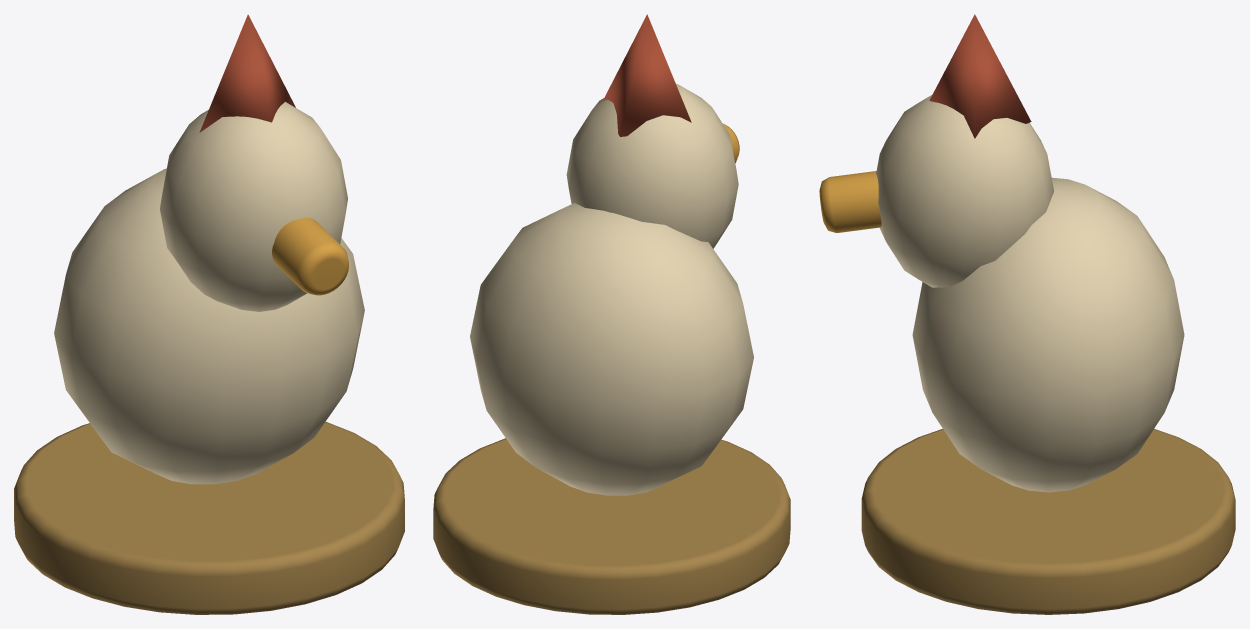
File: Token_Chicken.fbx
The picture shows the model from 3 angles, left to right: view 1: azimuth 30°, elevation 25°; view 2: azimuth 150°, elevation 25°; view 3: azimuth 270°, elevation 25°; orthographic projection. The views are drawn at different scales.
Parts seen in each view (by area): view 1: Chicken body.001, Chicken base.001, Chicken head.001, Chicken comb.001, Chicken beak.001; view 2: Chicken body.001, Chicken base.001, Chicken head.001, Chicken comb.001; view 3: Chicken body.001, Chicken base.001, Chicken head.001, Chicken comb.001, Chicken beak.001.
Boxes of the visible parts, x1,y1,x2,y2 form: Chicken body.001: (54, 168, 364, 484); Chicken base.001: (14, 421, 404, 614); Chicken head.001: (160, 101, 347, 311); Chicken comb.001: (199, 14, 295, 132); Chicken beak.001: (272, 217, 348, 295); Chicken body.001: (470, 203, 753, 495); Chicken base.001: (433, 438, 790, 614); Chicken head.001: (566, 84, 738, 248); Chicken comb.001: (603, 14, 691, 136); Chicken body.001: (912, 177, 1184, 492); Chicken base.001: (861, 429, 1235, 614); Chicken head.001: (876, 95, 1053, 287); Chicken comb.001: (929, 14, 1031, 138); Chicken beak.001: (819, 171, 881, 232).
Size of the model in its own units: 0.066 by 0.1025 by 0.0734.
